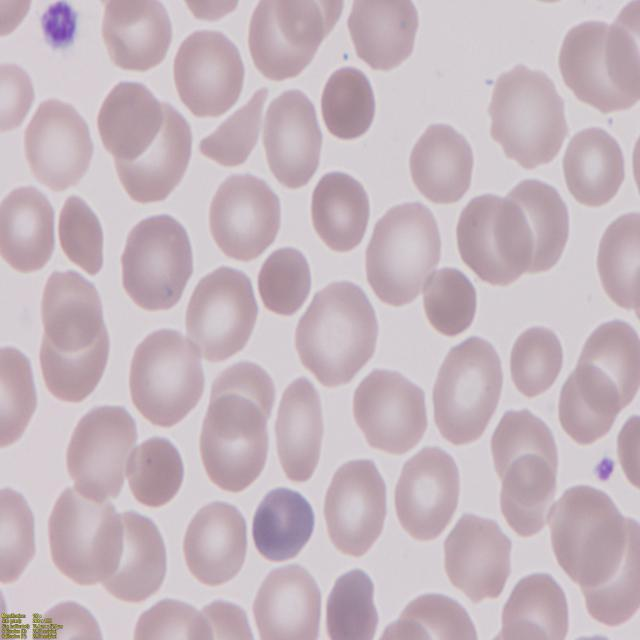Platelets: (39, 10, 84, 58), (607, 444, 633, 494)
RBC: (292, 277, 382, 387), (487, 65, 570, 173), (366, 201, 444, 310), (124, 326, 203, 433), (548, 482, 627, 587), (432, 335, 507, 444), (558, 17, 640, 116), (118, 211, 196, 315), (48, 484, 126, 588), (204, 168, 286, 264), (320, 458, 394, 560), (20, 98, 96, 196), (65, 407, 139, 507), (184, 264, 260, 361), (456, 191, 536, 283), (197, 398, 273, 494), (389, 447, 464, 544), (173, 26, 249, 121), (352, 367, 432, 455), (441, 510, 516, 603), (260, 86, 323, 194), (244, 0, 325, 84), (180, 499, 250, 593), (572, 316, 640, 410), (408, 119, 478, 206), (562, 123, 631, 210), (98, 0, 175, 77), (247, 484, 315, 570), (250, 561, 322, 640), (0, 187, 63, 276), (307, 168, 372, 254), (348, 0, 422, 75), (558, 362, 624, 446), (272, 376, 323, 484), (38, 268, 104, 351), (496, 570, 574, 640), (594, 205, 640, 315), (56, 192, 109, 277), (0, 480, 41, 588), (506, 324, 564, 399), (324, 567, 382, 640), (0, 343, 39, 450), (424, 266, 479, 338), (130, 597, 208, 640), (194, 598, 260, 640), (0, 60, 37, 134), (612, 404, 638, 497), (173, 1, 246, 27), (0, 0, 39, 40)
Spherocyte: (92, 75, 166, 159), (318, 64, 382, 146), (127, 432, 188, 511), (256, 243, 316, 322)
